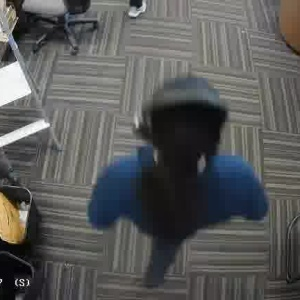person: (91, 81, 259, 267)
